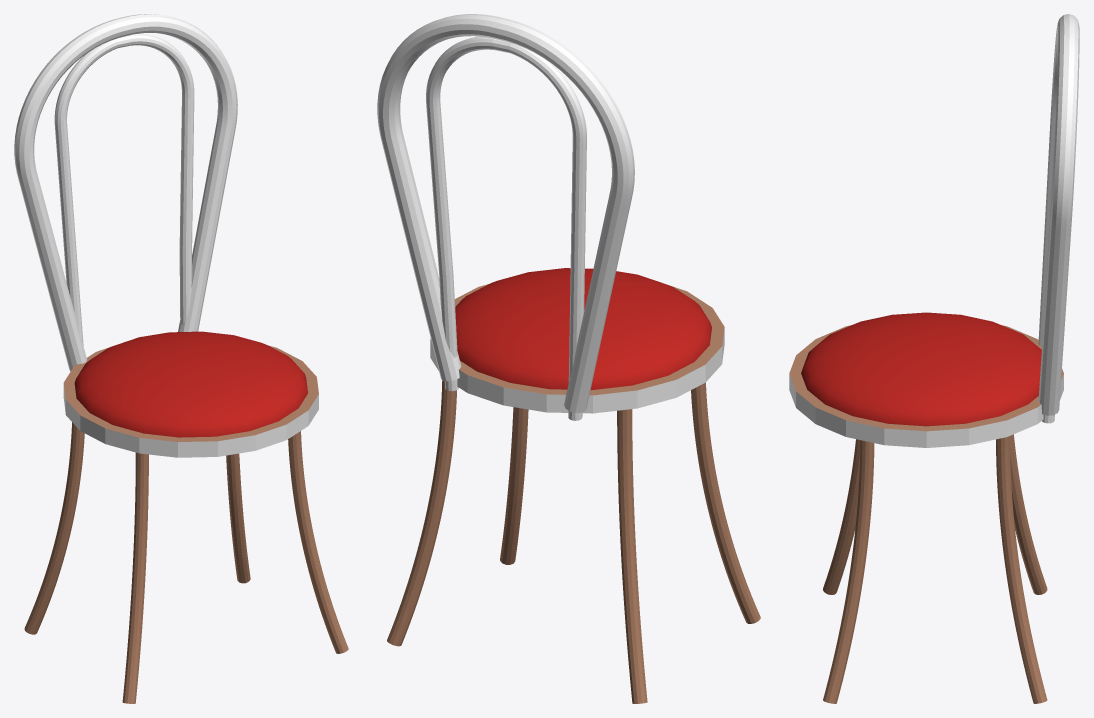
File: chair_red.fbx
The picture shows the model from 3 angles, left to right: view 1: azimuth 30°, elevation 25°; view 2: azimuth 150°, elevation 25°; view 3: azimuth 270°, elevation 25°; orthographic projection. The views are drawn at different scales.
Visible parts, largest first — view 1: chair_red; view 2: chair_red; view 3: chair_red.
Part boxes in pixels (box(x1,y1,x2,y2)): chair_red: box(14, 14, 348, 703); chair_red: box(377, 14, 760, 703); chair_red: box(789, 14, 1079, 703).
Bounding box in the file's own units: 1.39 × 3.43 × 1.46.
